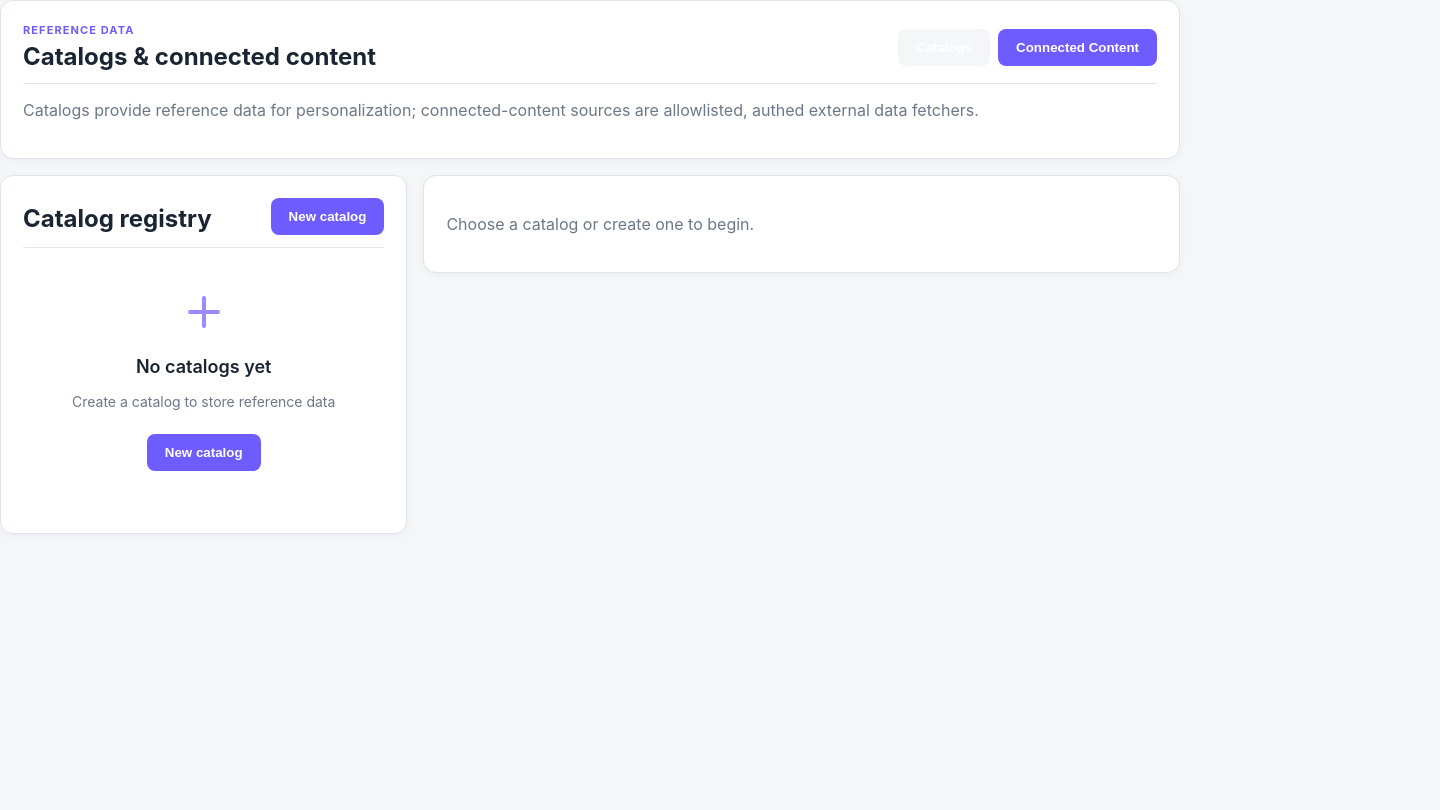
Catalogs section › switches tabs and creates a connected-content source
Expected: the heading "Catalogs & connected content" is shown, [23, 42, 376, 71]
Expected: the text "Reference data" is shown, [23, 23, 134, 37]
Click the button "Connected Content" at (1078, 47), box [998, 28, 1157, 66]
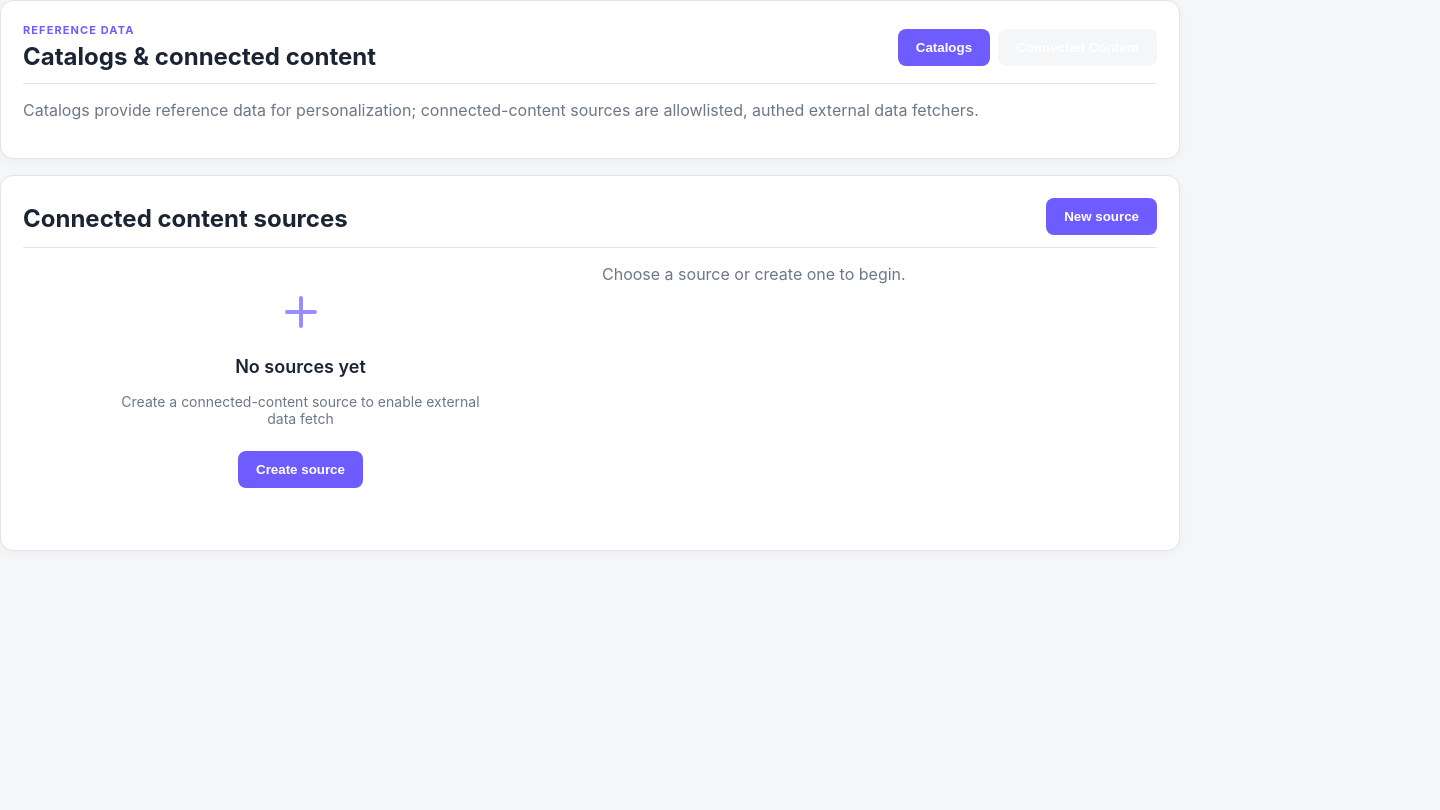
Click the button "New source" at (1102, 216), box [1046, 198, 1157, 235]
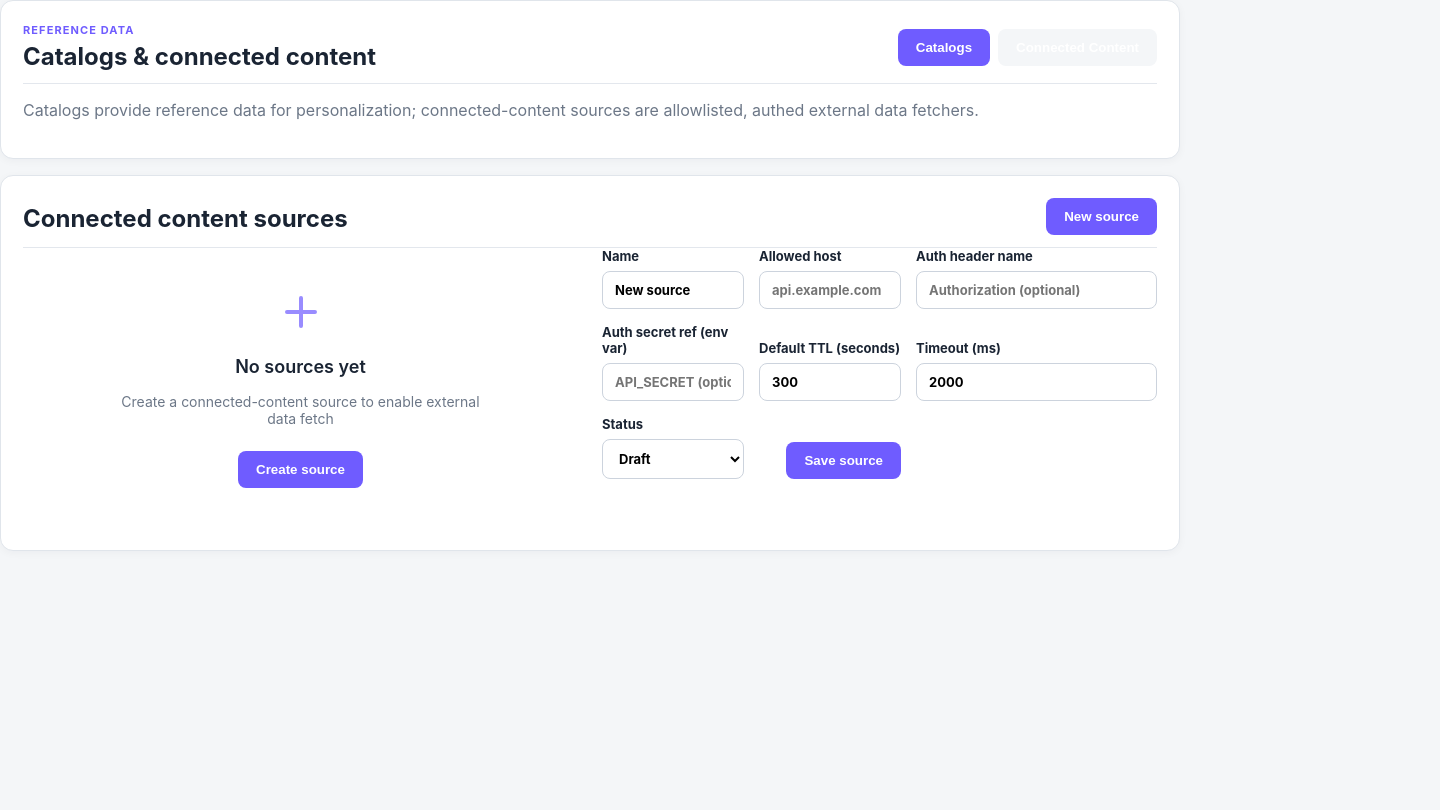
Replace the text in the field with placeholder "API source name" with "Inventory API" at (673, 290), box [602, 271, 744, 309]
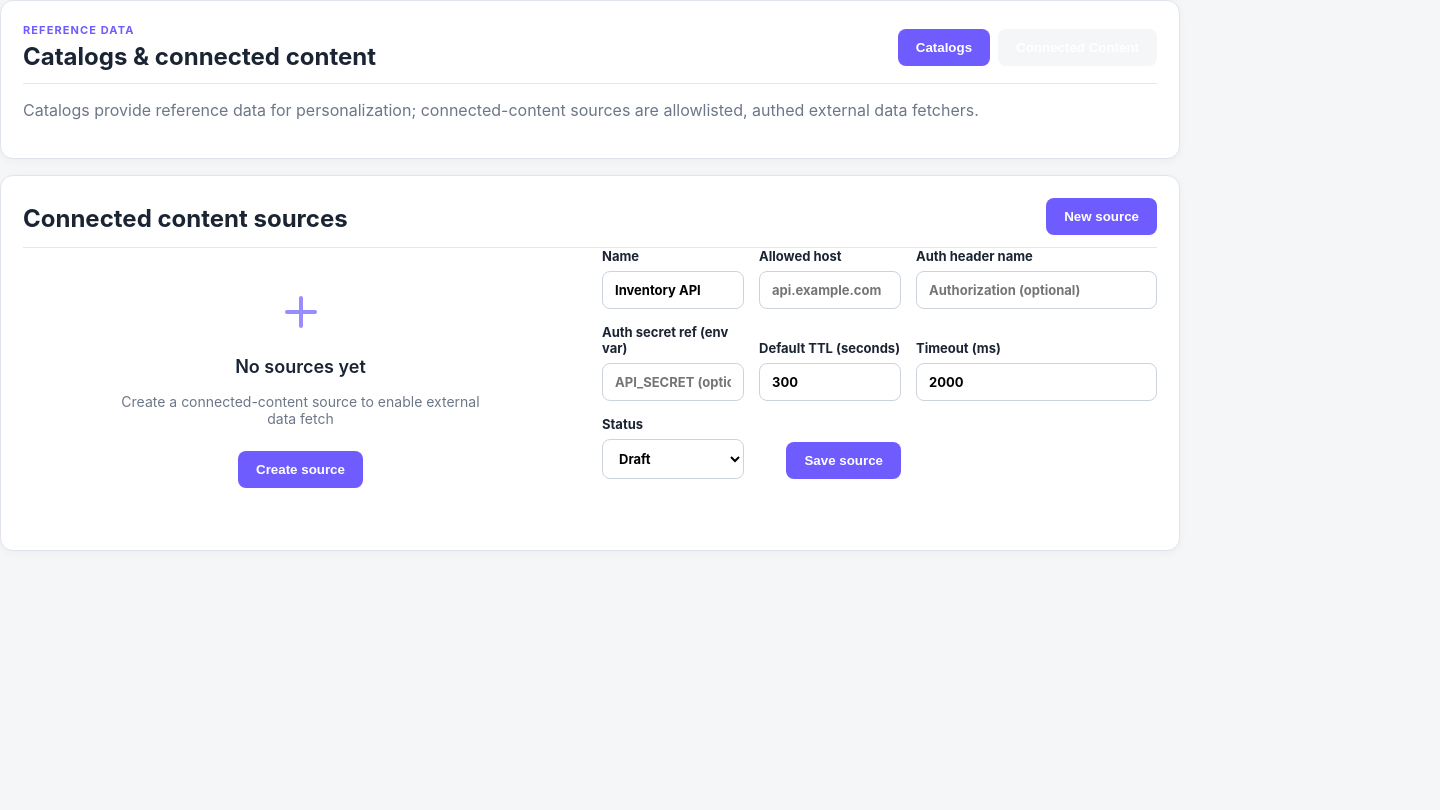
Type "inventory.example.com" into the field with placeholder "api.example.com" at (830, 290), box [759, 271, 901, 309]
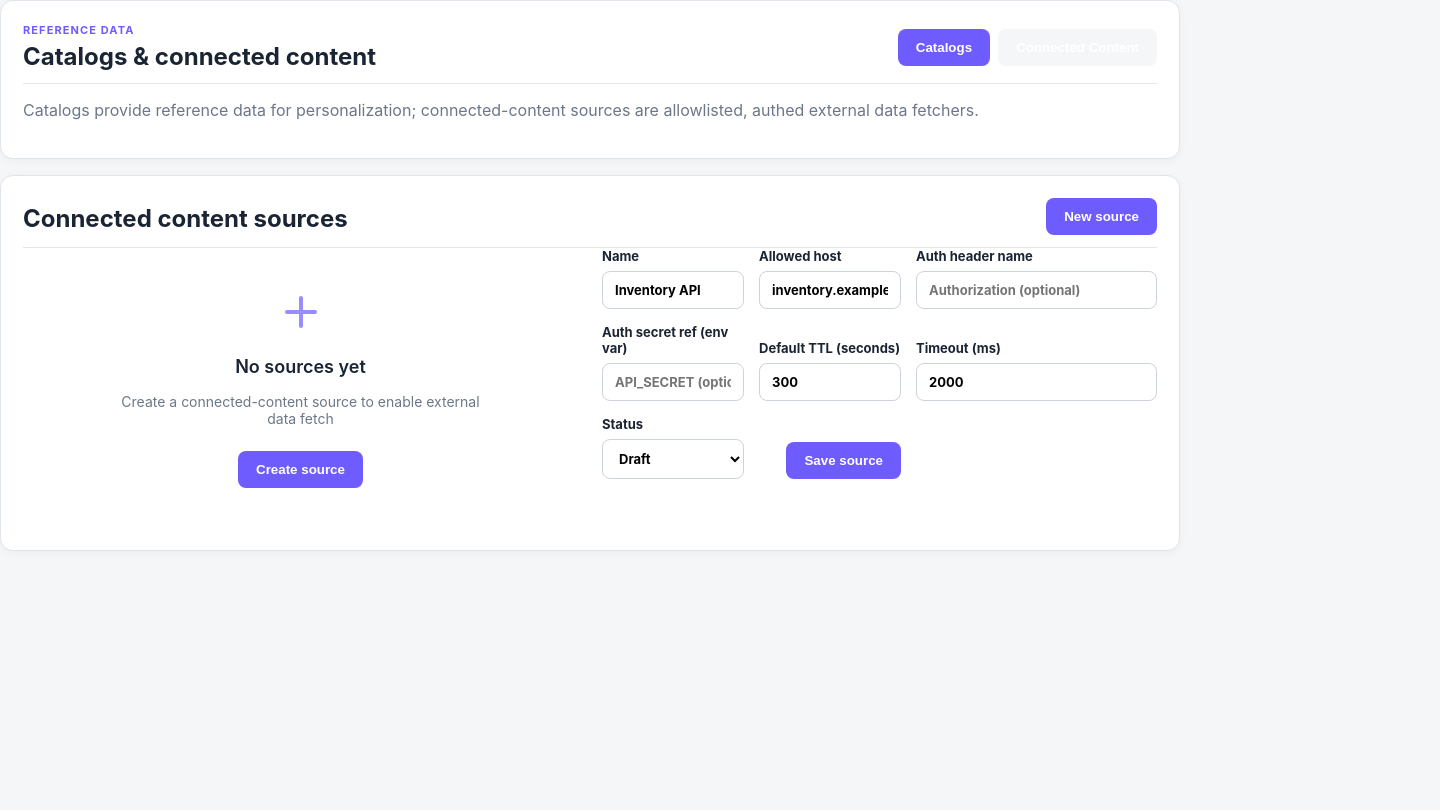
Click the button "Save source" at (844, 460), box [786, 442, 901, 479]
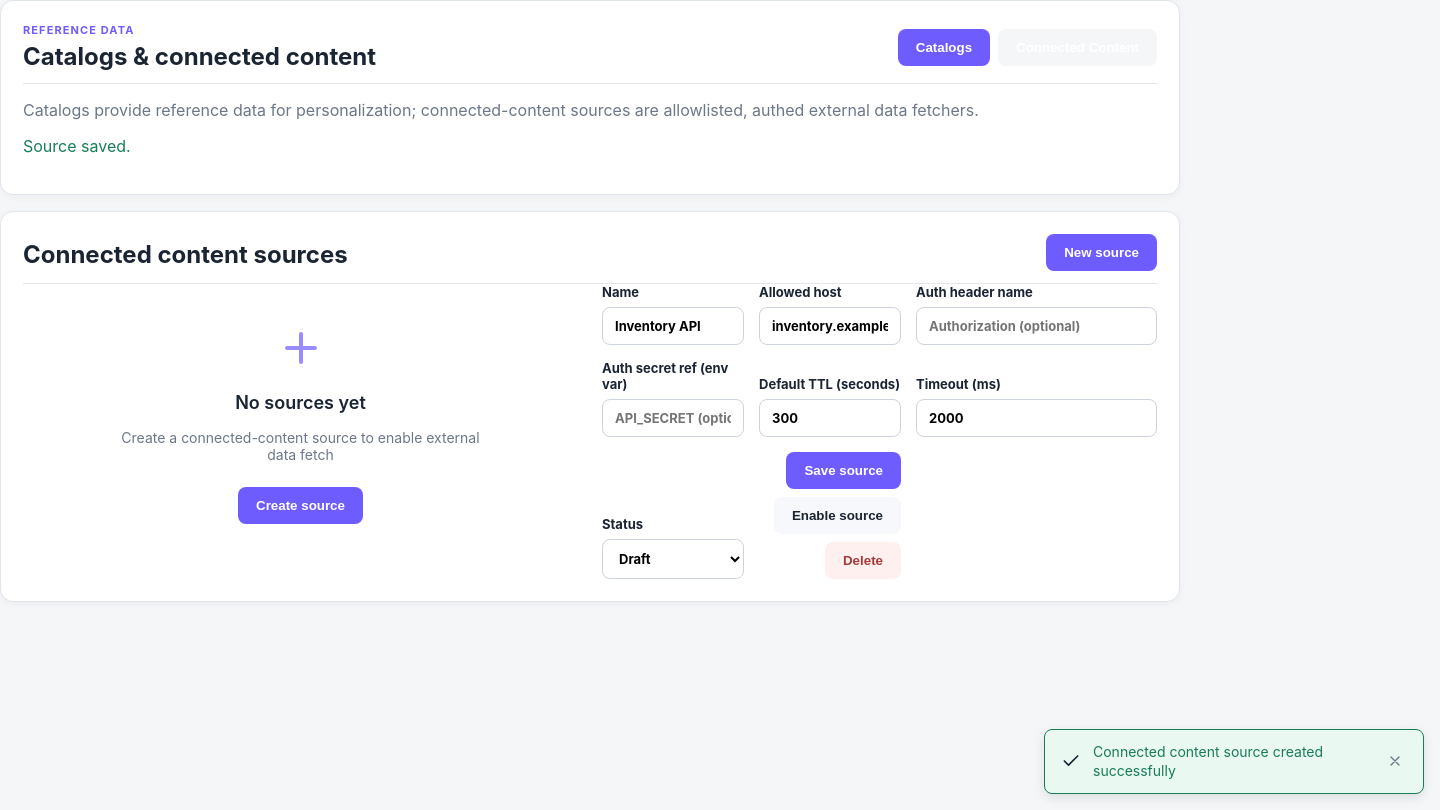
Expected: the text "Source saved." is shown, [23, 136, 131, 156]
Expected: the text "Connected content source created successfully" is shown, [1093, 743, 1323, 779]
